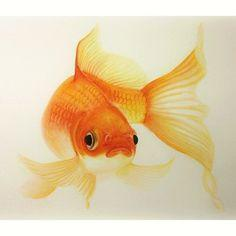goldfish: (25, 54, 218, 194)
